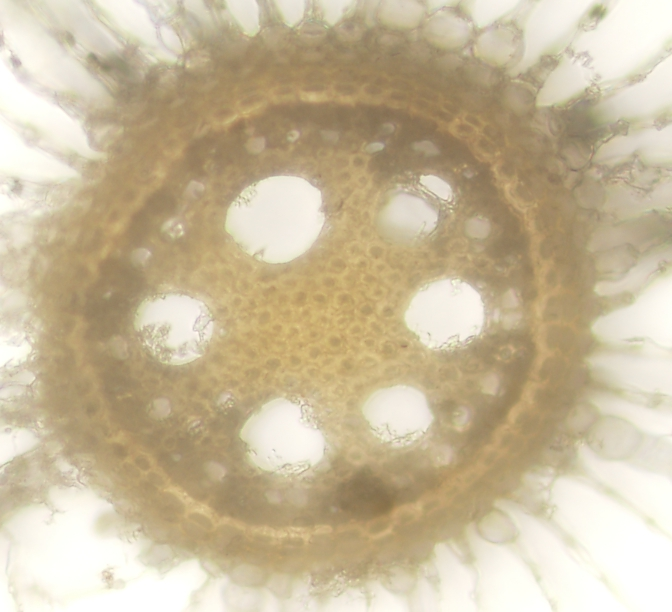lm: (225, 175, 325, 264), (239, 397, 324, 474), (371, 173, 453, 252), (404, 276, 484, 352), (134, 292, 215, 366), (361, 385, 435, 449)
